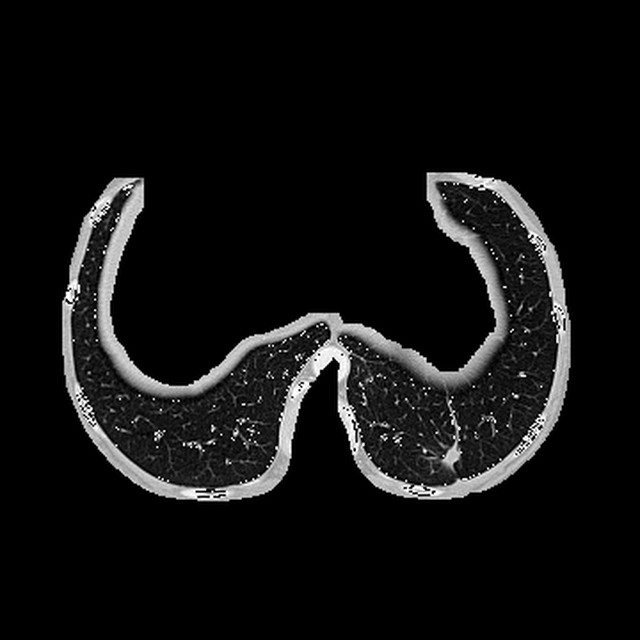PN: (437, 441, 466, 469)
